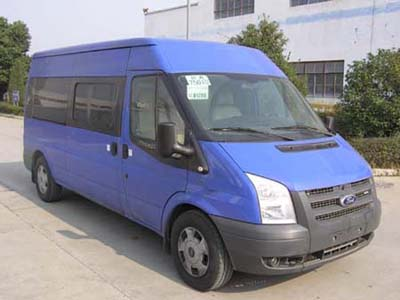midcar: (21, 34, 379, 286)
